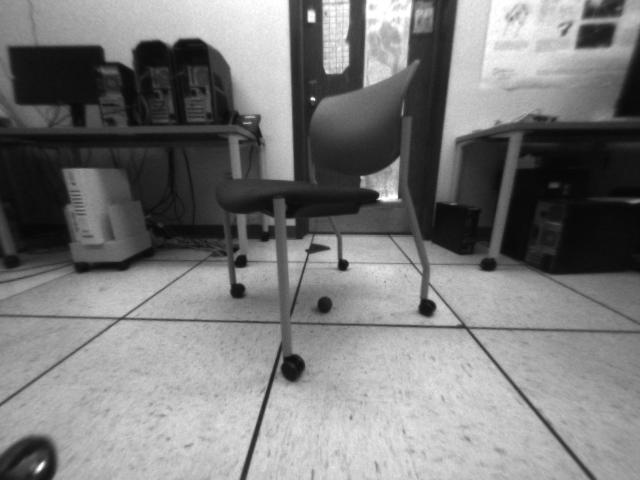dogtoy: (309, 289, 338, 317)
